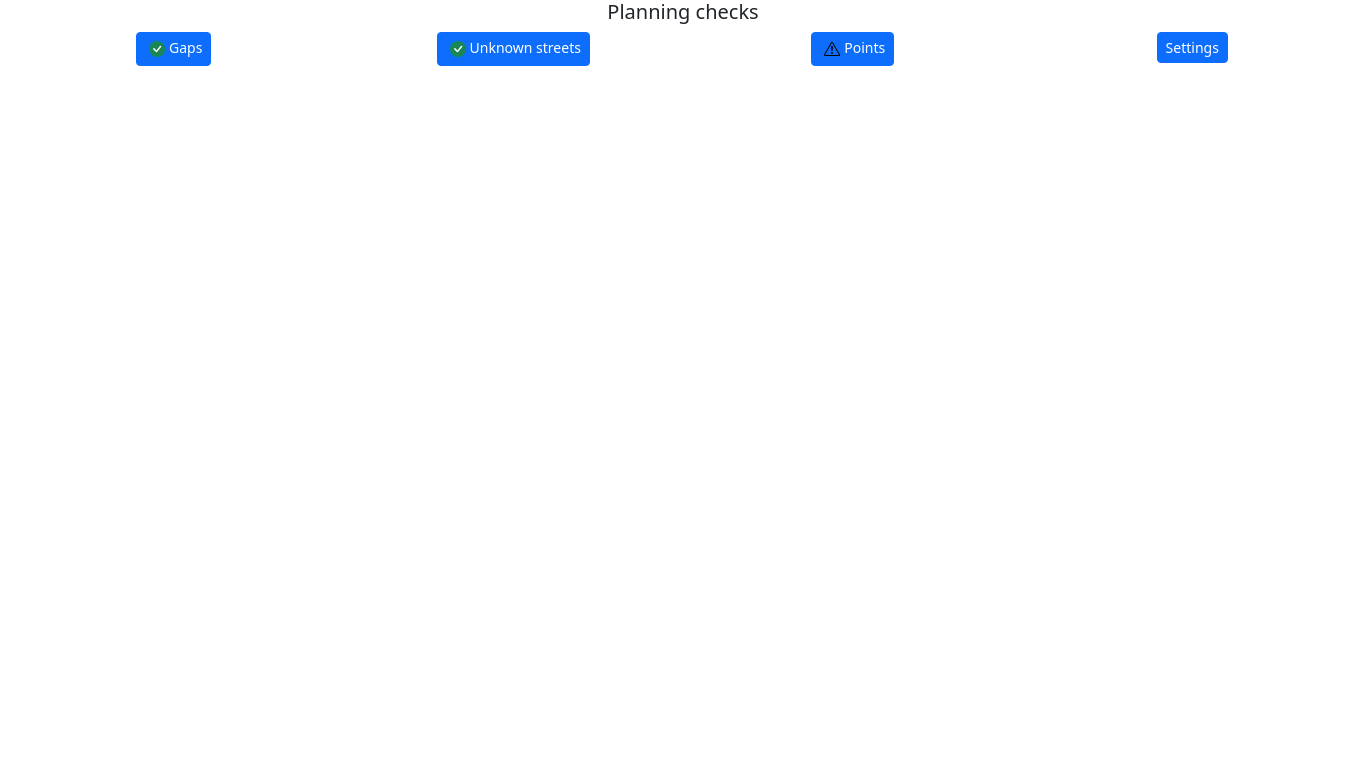
Test case: SimplePlanningChecks › shows point counts, opens the point list, and navigates after closing it
The width and height of the screenshot is (1366, 768).
Click the button "Points" at coordinates (853, 49), box [811,32,894,66]
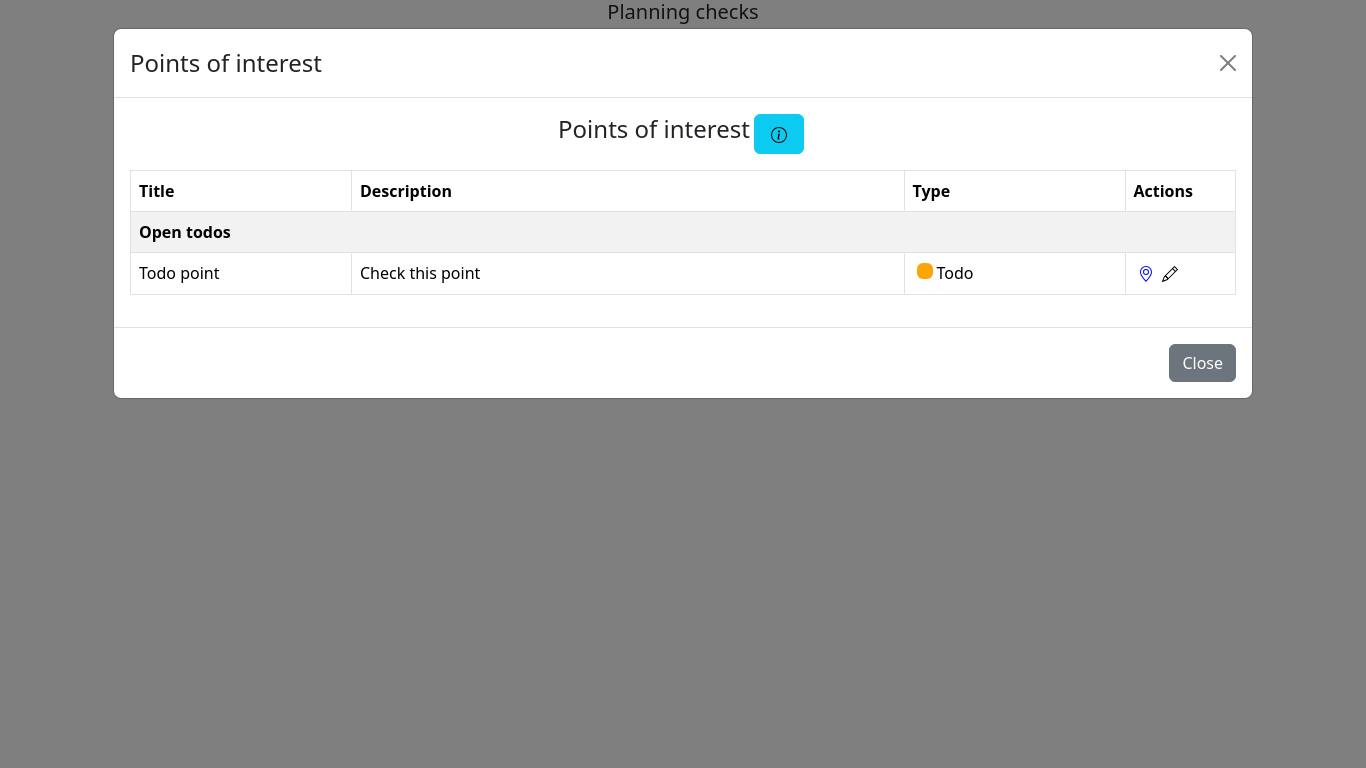
Expected: the dialog is shown, [113,28,1253,399]
Expected: the text "Todo point" is shown, [139,262,220,284]
Click the picture with alt text "open on map" at coordinates (1146, 274), box [1138,266,1154,282]
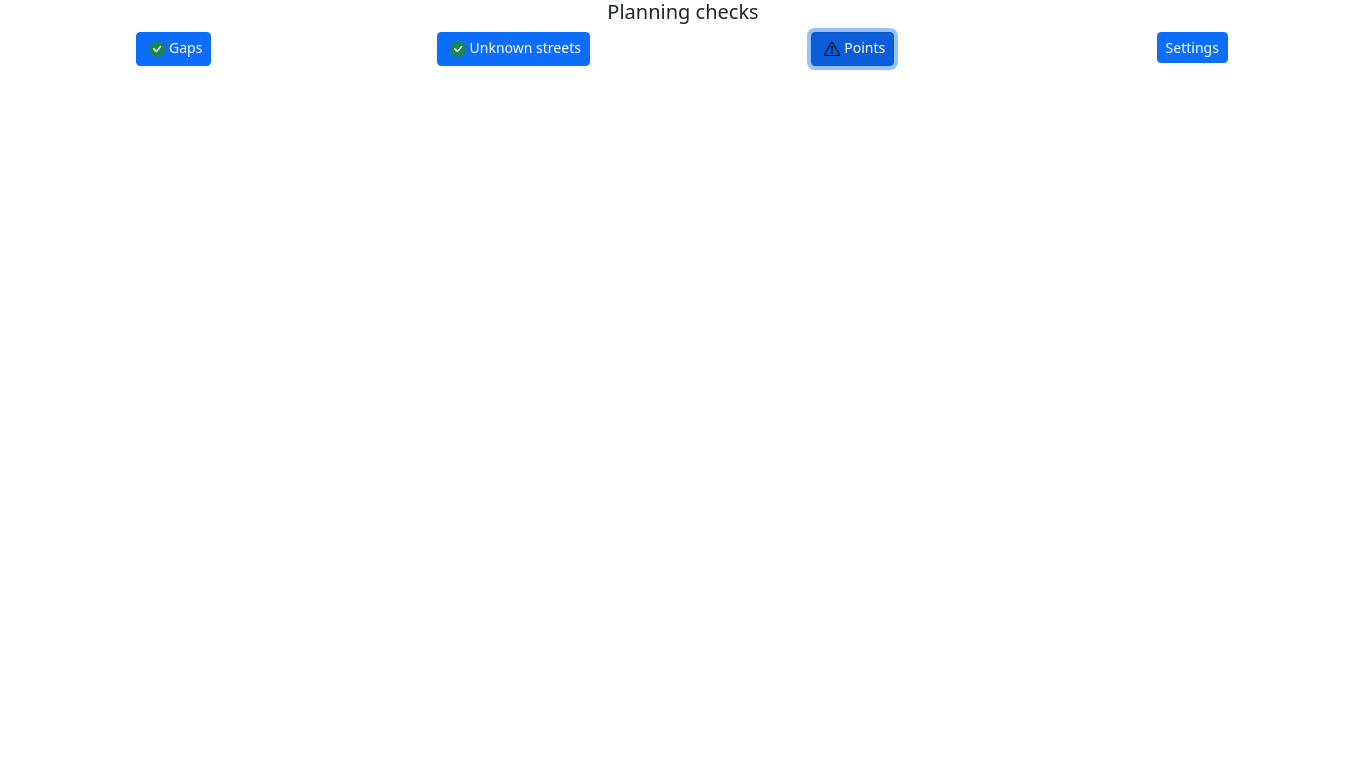
Expected: the dialog is gone
